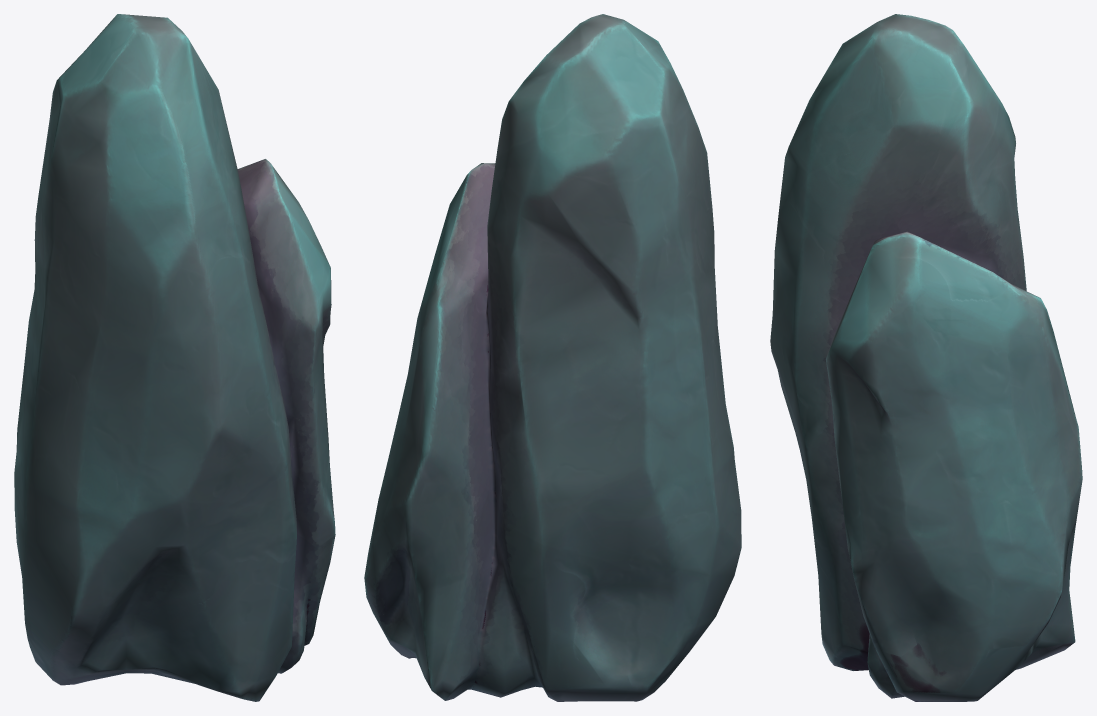
The model's file is rock5.glb.
3 views of the same model, side by side, from view 1: azimuth 30°, elevation 25°; view 2: azimuth 150°, elevation 25°; view 3: azimuth 270°, elevation 25° (orthographic). The views are drawn at different scales.
Visible parts, largest first — view 1: rock5; view 2: rock5; view 3: rock5.
Part boxes in pixels (x1,y1,x2,y2): rock5: [14, 14, 335, 701]; rock5: [364, 14, 741, 701]; rock5: [770, 14, 1082, 701].
Size of the model in its own units: 1.6 by 3.38 by 1.54.
Materials: 1 (1 with a texture image).
